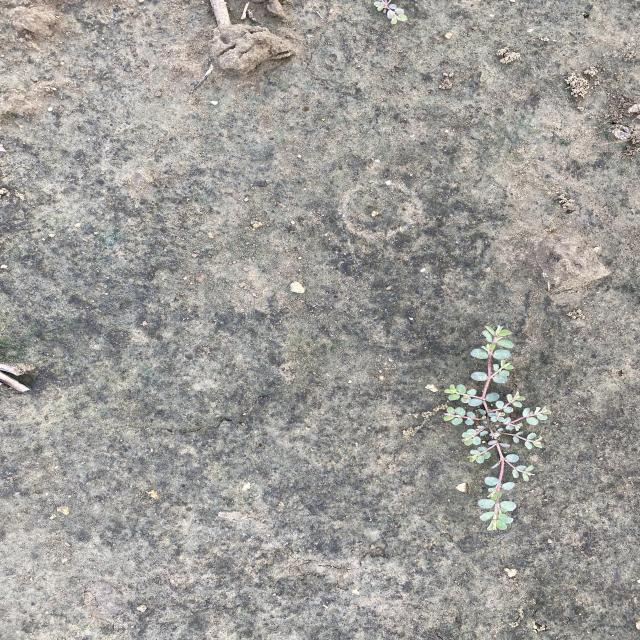SpottedSpurge: (441, 323, 553, 533)
